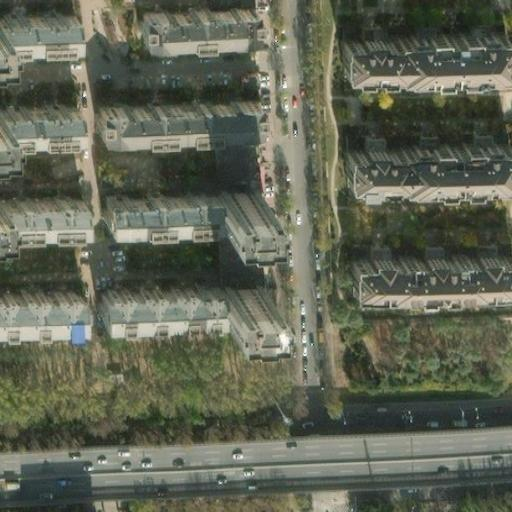building: (335, 30, 502, 76), (339, 143, 503, 189), (344, 251, 505, 294), (92, 94, 255, 133), (0, 12, 81, 65), (133, 2, 248, 39), (93, 279, 208, 316), (96, 187, 211, 221), (0, 192, 83, 231), (0, 279, 73, 319), (0, 99, 74, 137), (208, 278, 249, 310), (210, 186, 251, 218)
